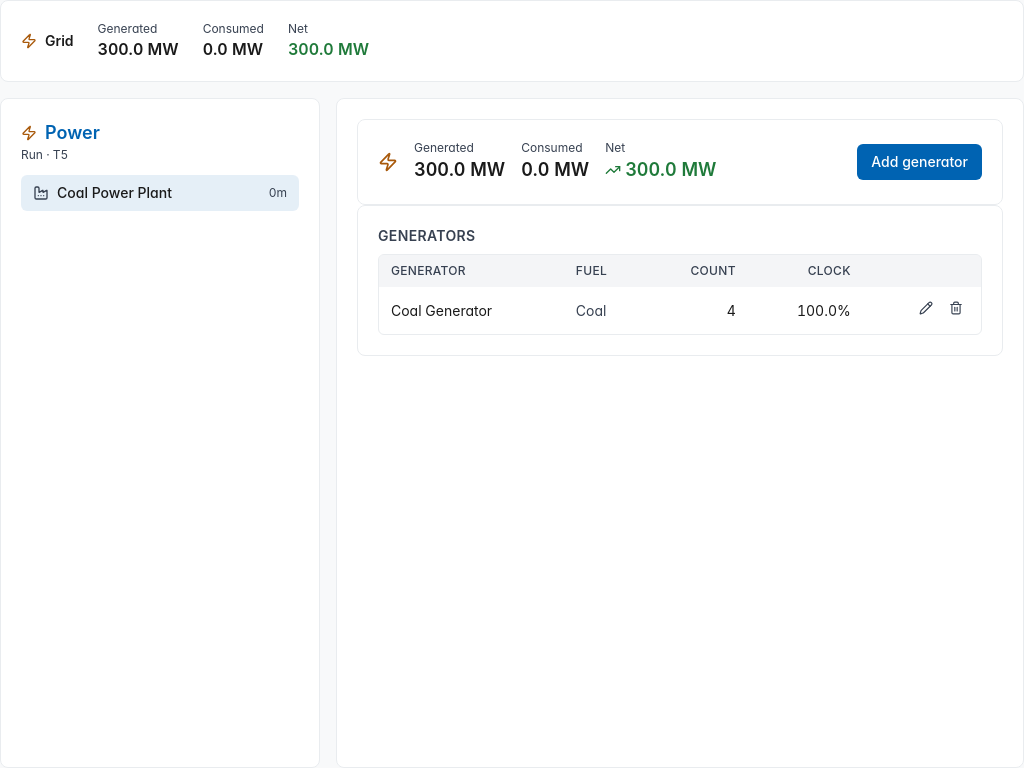
Scenario: <PowerView /> › closes the edit-generator modal on Escape, matching every other modal
This screenshot has width=1024, height=768.
Click the button named "edit generator". click: (926, 308)
box: [913, 295, 939, 321]
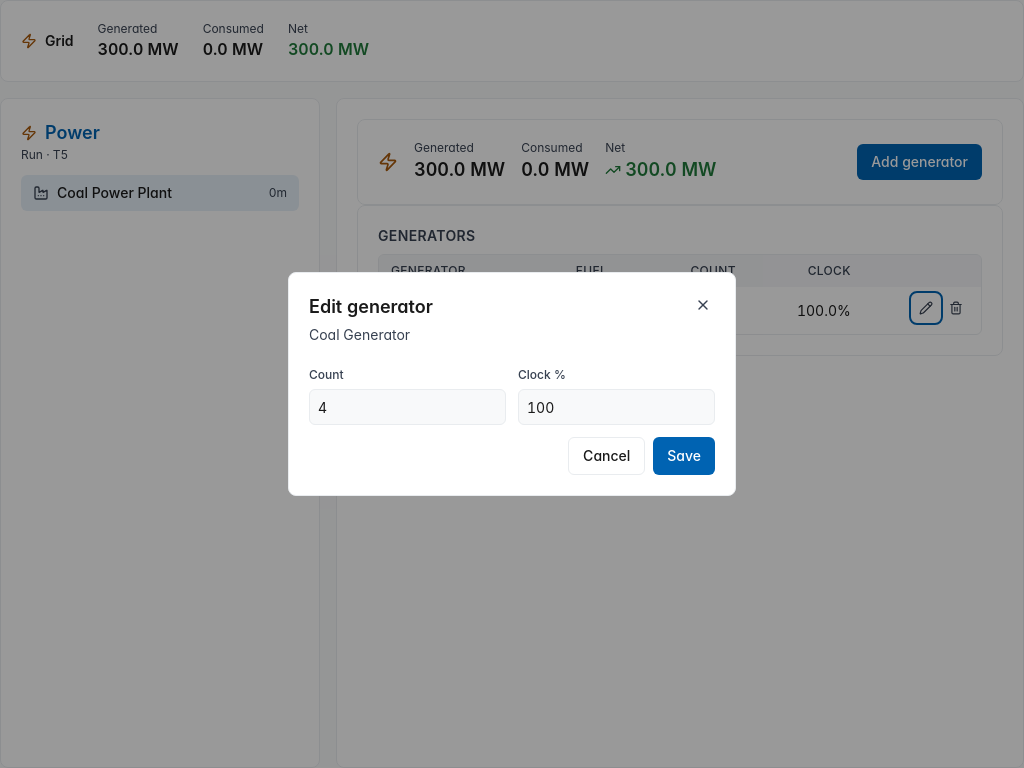
Expected: the heading "Edit generator" is shown, [309, 293, 433, 321]
Press Escape
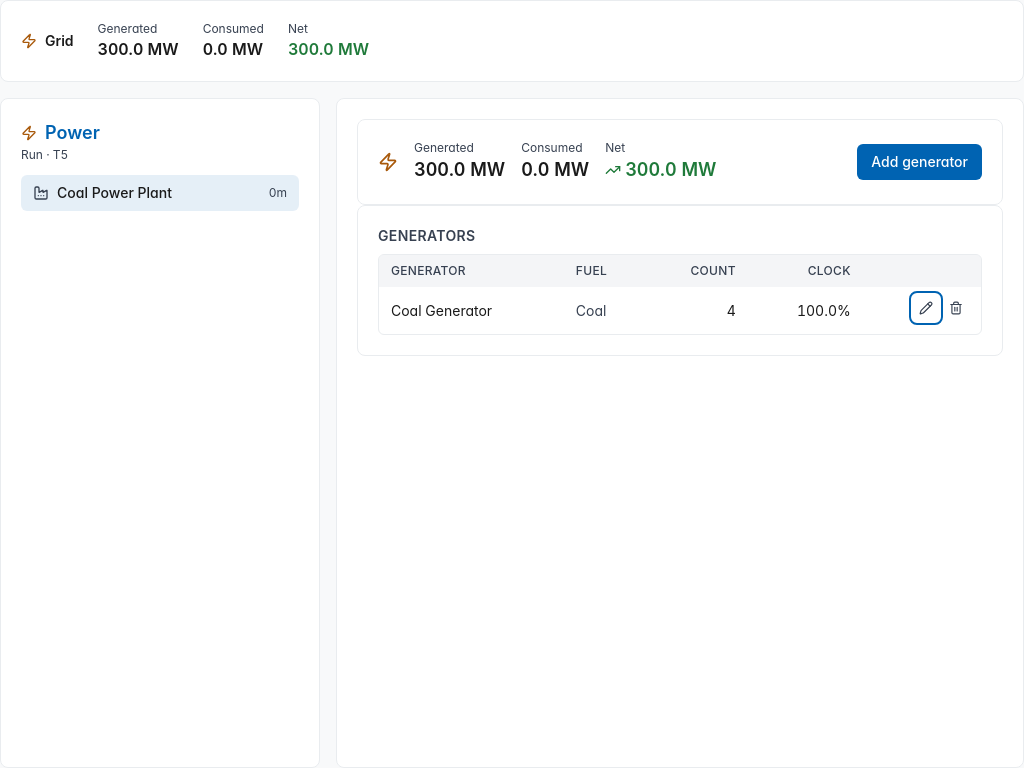
Expected: the heading "Edit generator" is gone
